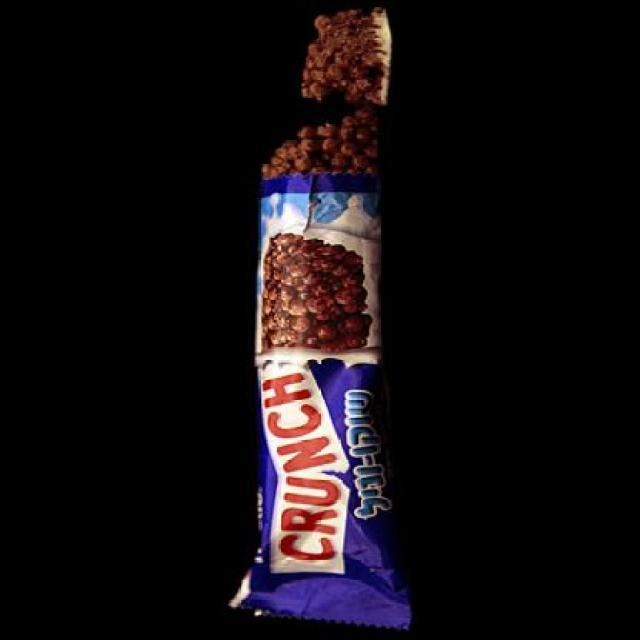Cereal bar: (230, 186, 407, 617)
Cereal bar packaged: (306, 10, 386, 98)
